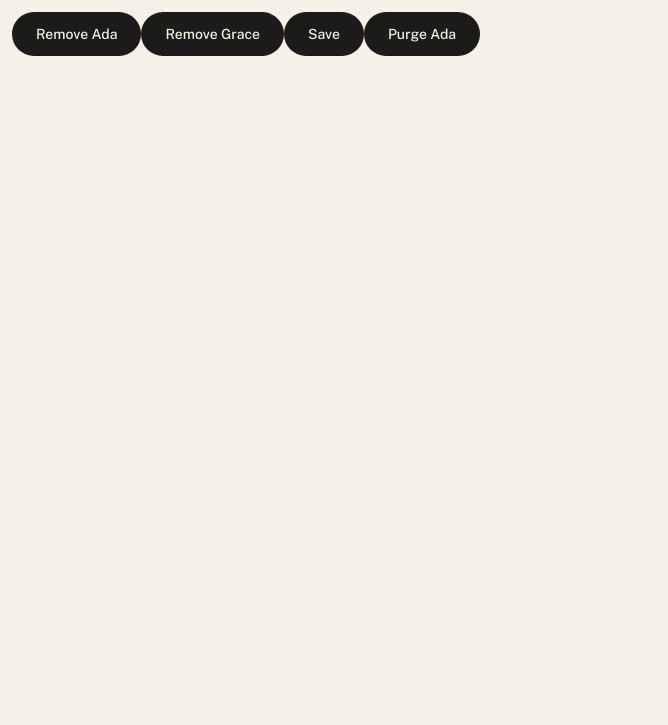
it: Toast › may have no action
This screenshot has width=668, height=725.
Click the button "Save": [324, 34] box [284,12,364,56]
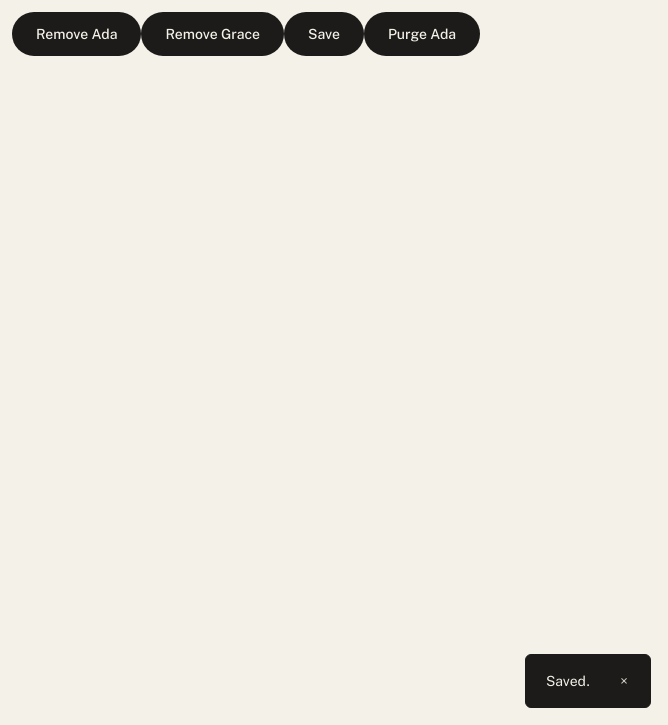
Expected: the message shows "Saved.", [546,672,590,688]
